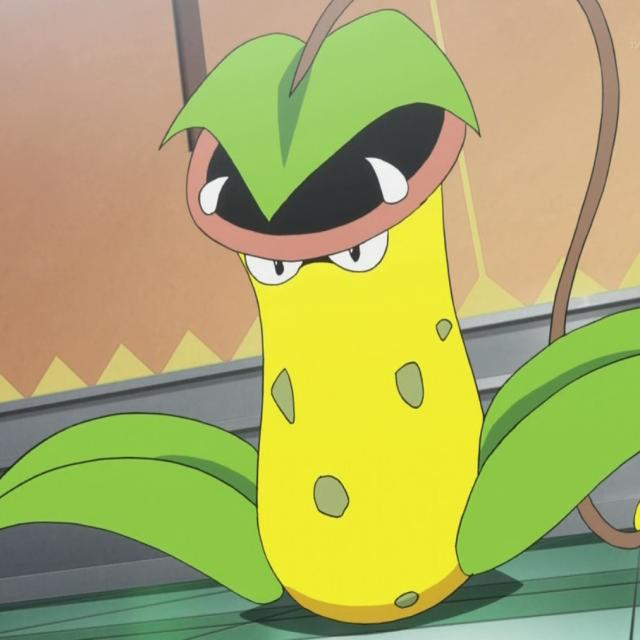Victreebel: (184, 21, 506, 626)
